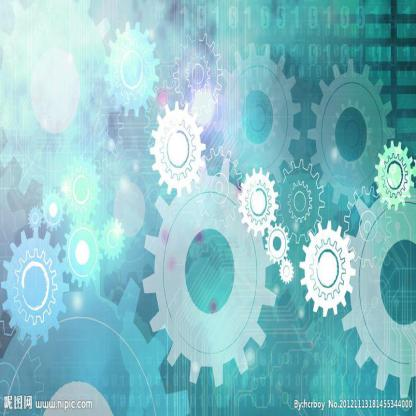FOD: (141, 155, 276, 387), (298, 218, 356, 321), (149, 98, 207, 200), (238, 166, 276, 238), (309, 234, 346, 302)
